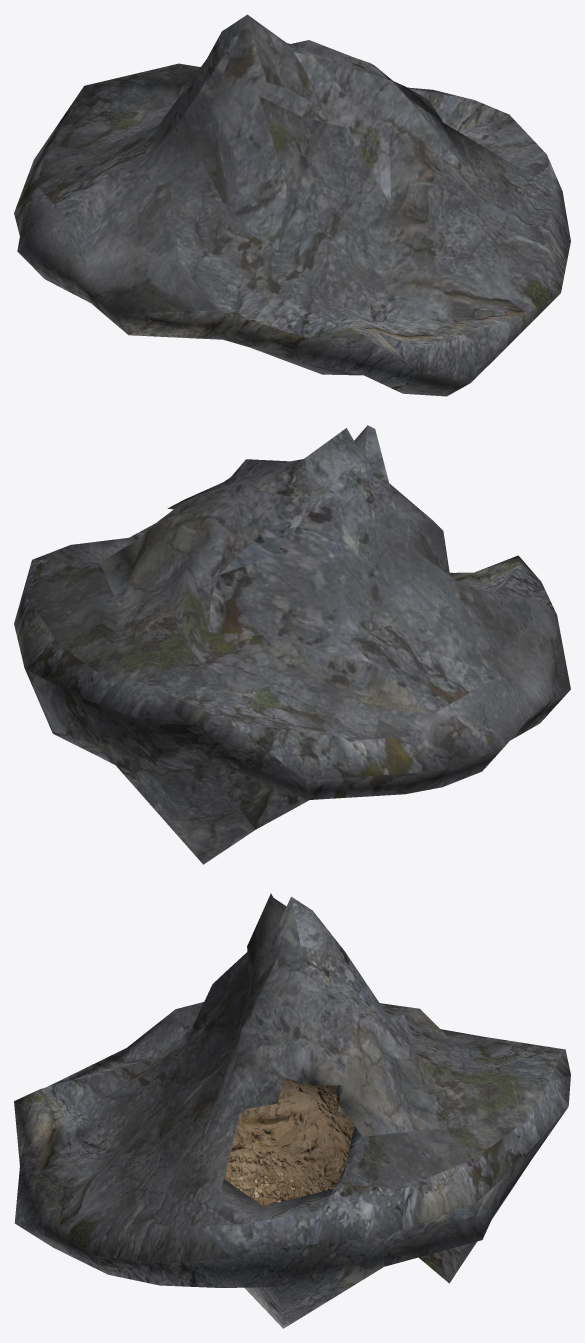
The model's file is bigMountainIsland.fbx.
3 views of the same model, one above another, from view 1: azimuth 30°, elevation 25°; view 2: azimuth 150°, elevation 25°; view 3: azimuth 270°, elevation 25° (orthographic). The views are drawn at different scales.
Parts seen in each view (by area): view 1: 01- island01.001; view 2: 01- island01.001; view 3: 01- island01.001.
Boxes of the visible parts, x1,y1,x2,y2 form: 01- island01.001: (14, 14, 570, 396); 01- island01.001: (14, 425, 570, 864); 01- island01.001: (14, 893, 570, 1328).
Size of the model in its own units: 33267 by 24046 by 33652.
